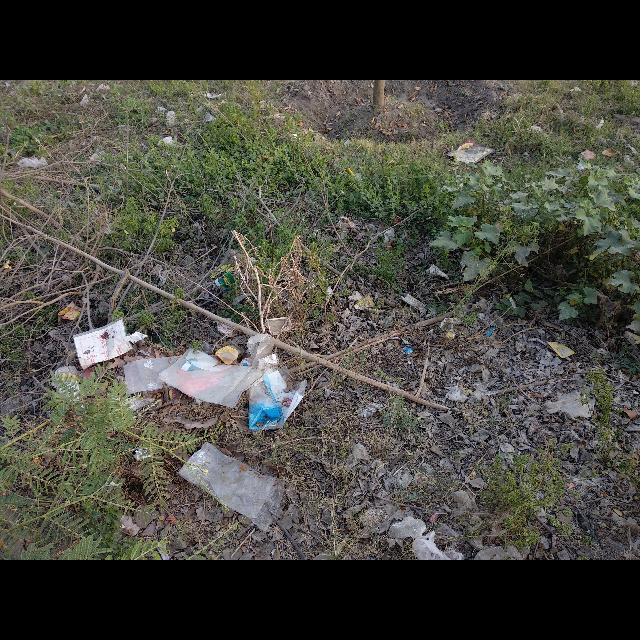Plastic: (176, 438, 284, 528), (161, 342, 267, 406)
